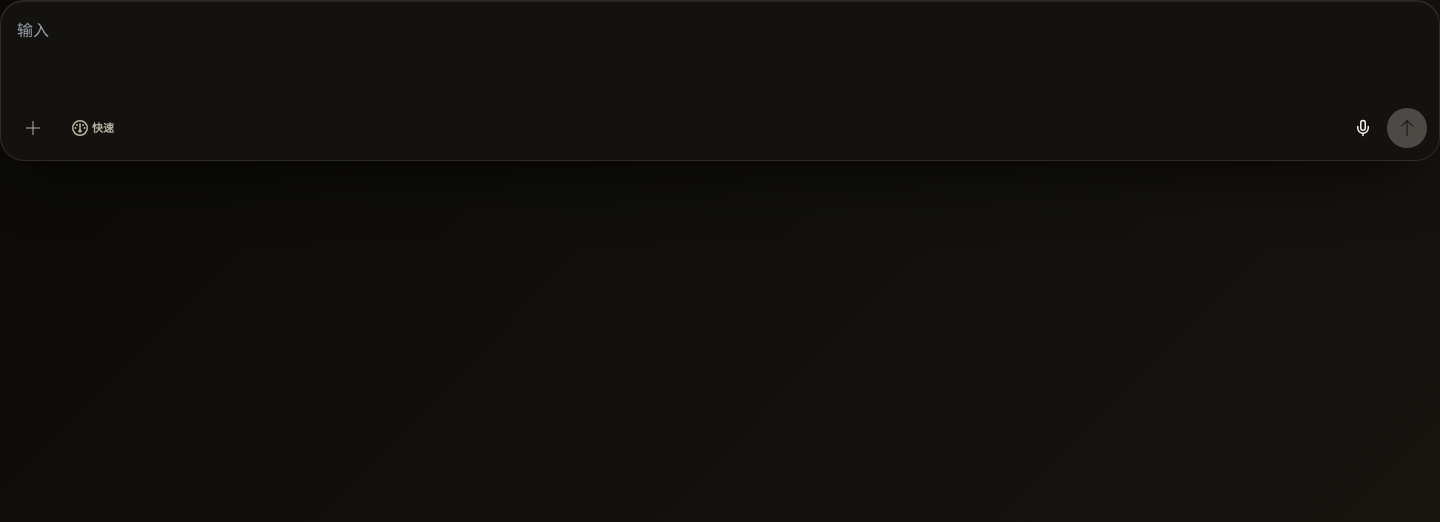
Test: AgentComposer thinking-depth picker › keeps the add and depth menus separate
Click the button named "添加或使用自动化".
click(33, 128)  # box top-left (13, 108), bottom-right (53, 148)
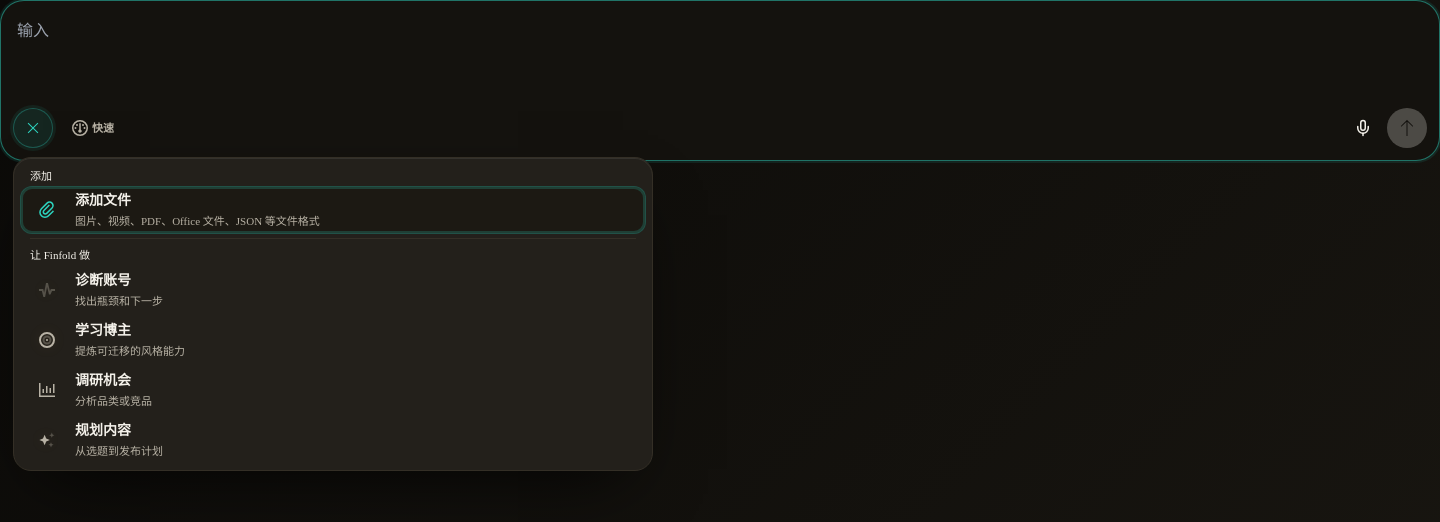
Expected: the menu named "添加与自动化" is shown, top-left (13, 157), bottom-right (653, 471)
